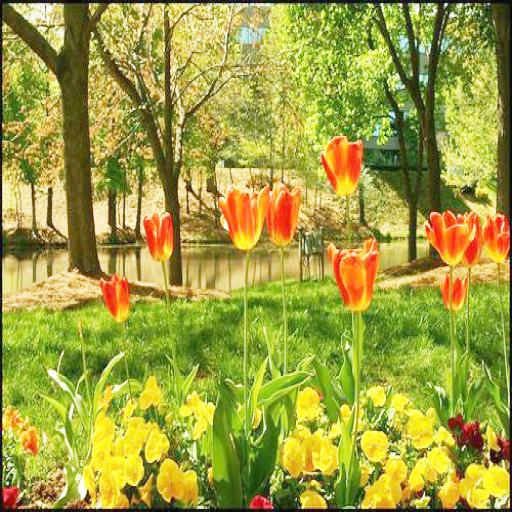tulip: (330, 232, 379, 310), (217, 186, 264, 256), (423, 206, 472, 262), (320, 134, 364, 196), (263, 176, 301, 246), (141, 208, 175, 261), (97, 274, 131, 321), (438, 272, 469, 309)
